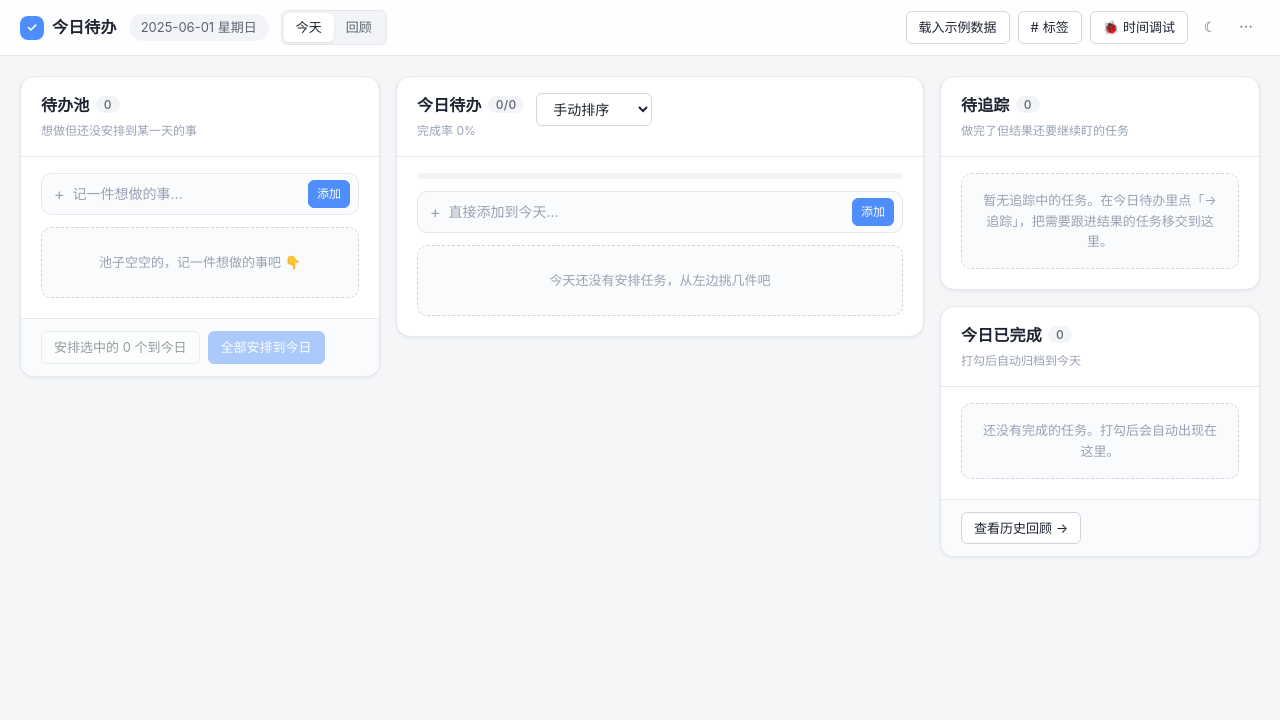
Test: App 真实渲染（jsdom） › 核心闭环：池中创建 → 安排到今日 → 打勾归档到「今日已完成」
Type "写周报" into the field named "添加待办".
click(186, 194); type("写周报")  # box [73,176,300,212]
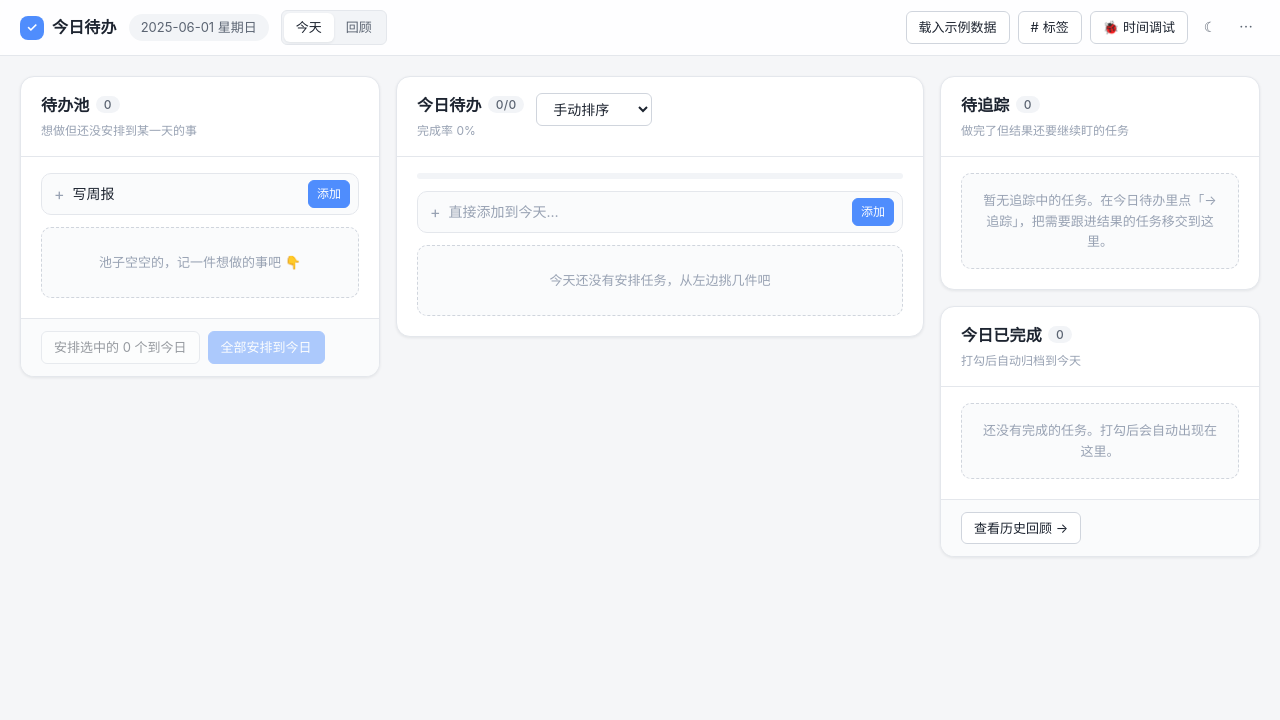
Submit the form named "添加待办", box [41,173,359,215]
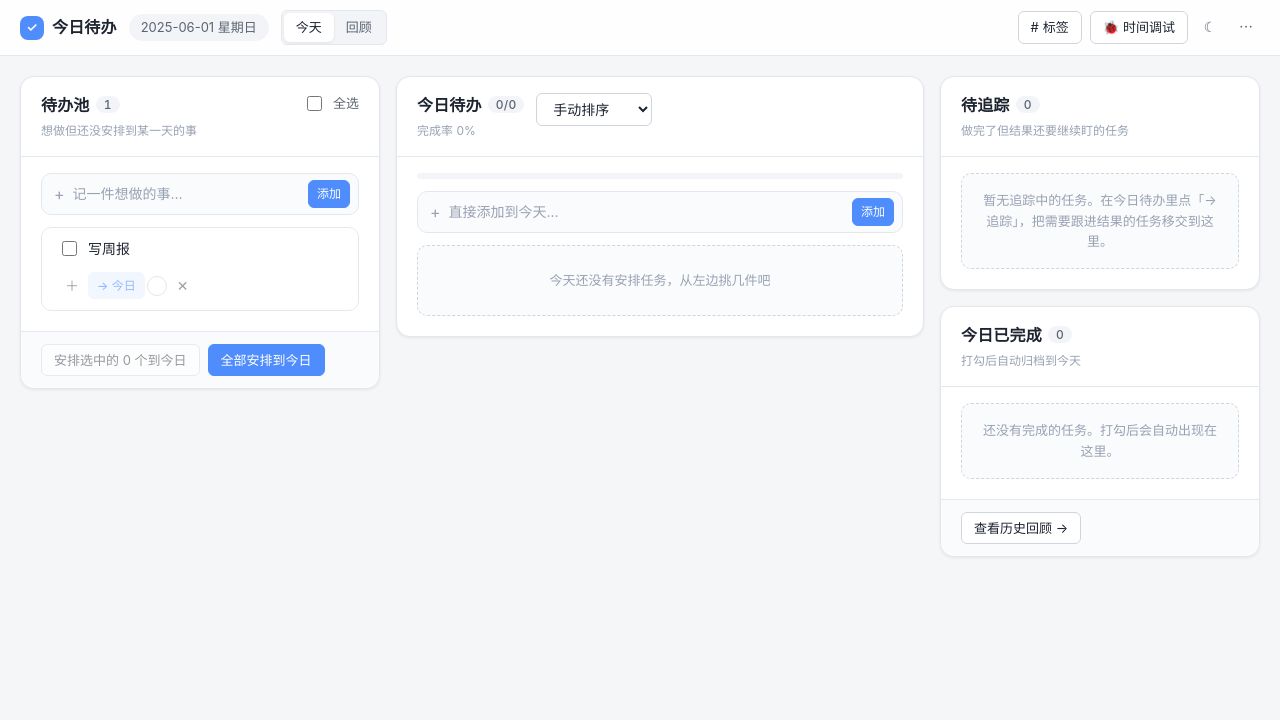
Click the button "→ 今日".
click(116, 286)  # box [88,272,145,299]
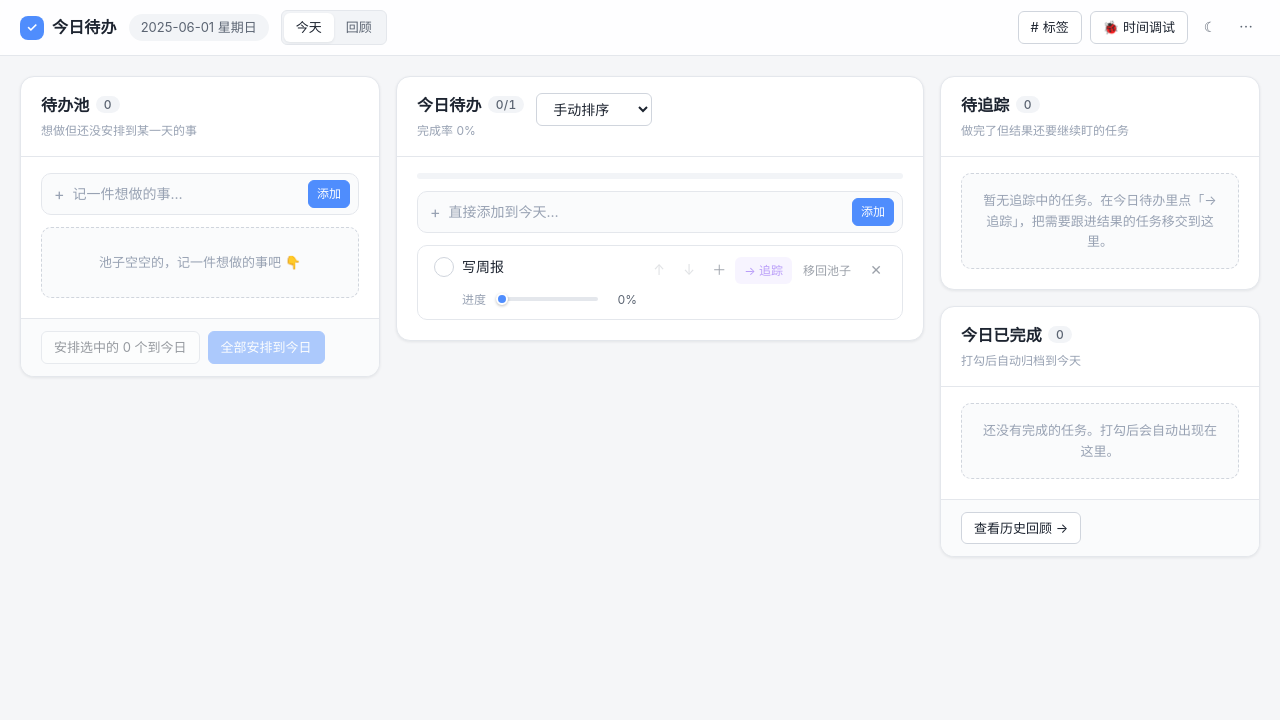
Expected: the text "0/1" is shown, [488,96,524,113]
Click the checkbox named "完成任务：写周报".
click(444, 267)  # box [434,257,454,277]
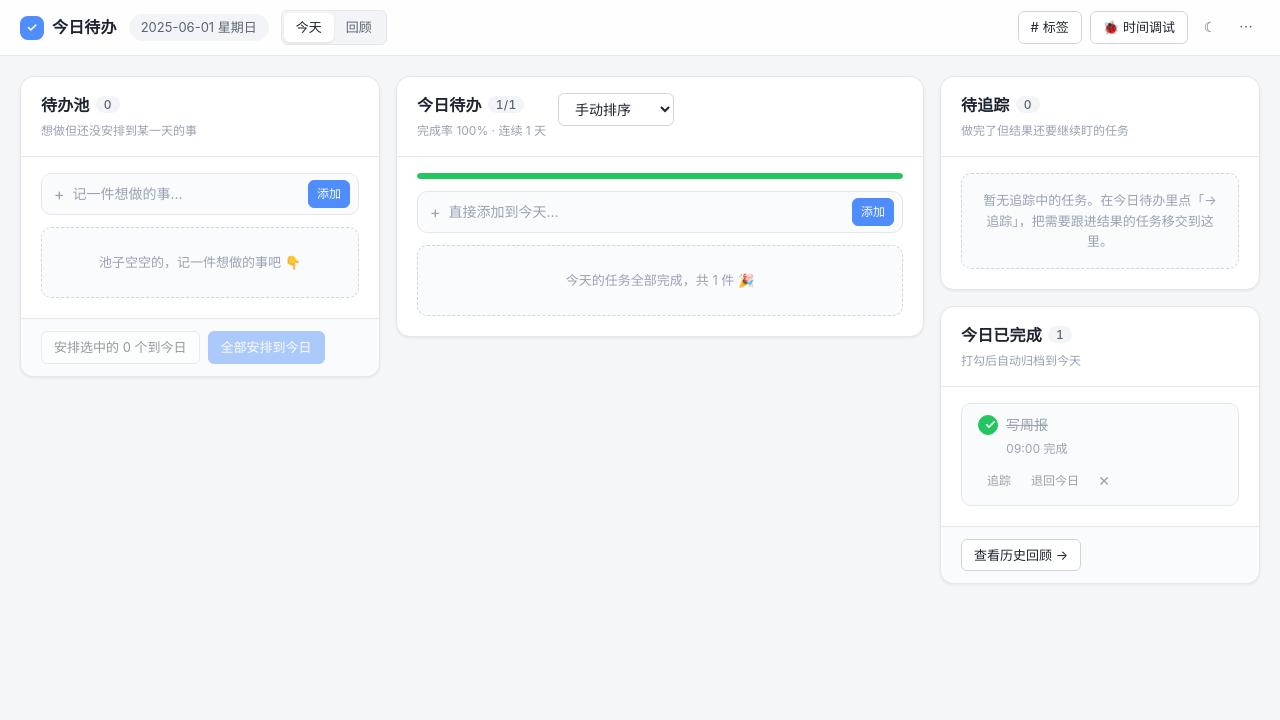
Expected: the text "今天的任务全部完成，共 1 件 🎉" is shown, [417,245,903,316]
